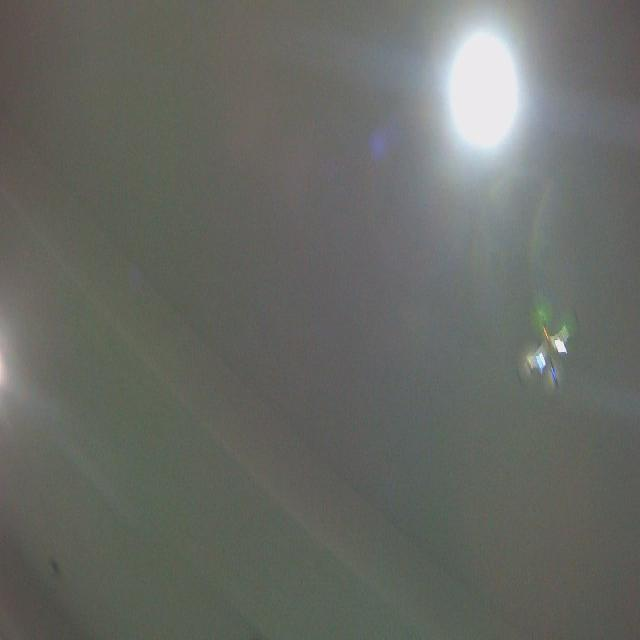drone: (513, 292, 582, 399)
